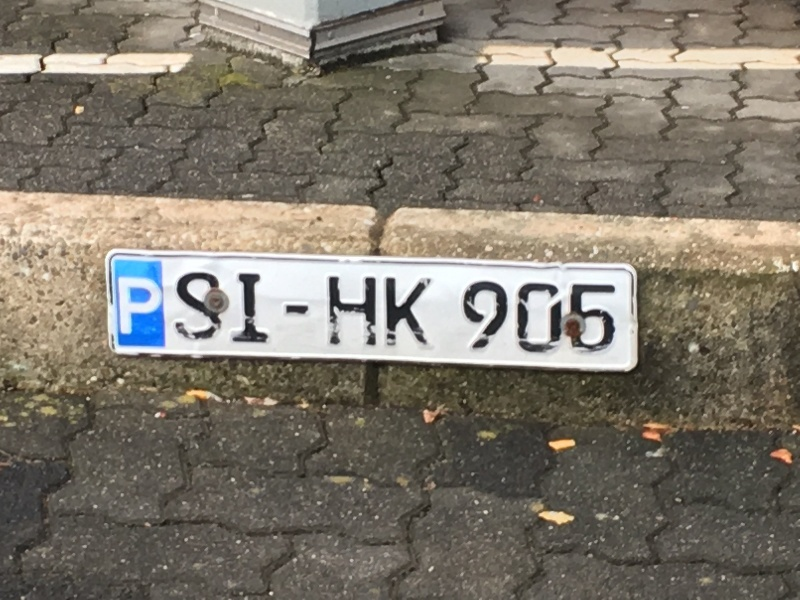text: (465, 279, 480, 358), (481, 279, 496, 358), (497, 279, 512, 358), (513, 279, 528, 358), (529, 279, 544, 358), (545, 279, 560, 358), (561, 279, 576, 358), (577, 279, 592, 358), (593, 279, 608, 358), (177, 272, 192, 347), (193, 272, 208, 347), (209, 272, 224, 347), (225, 272, 240, 347), (241, 272, 256, 347), (257, 272, 272, 347), (337, 275, 352, 349), (353, 275, 368, 349), (369, 275, 384, 349), (385, 275, 400, 349), (401, 275, 416, 349), (417, 275, 432, 349), (129, 277, 144, 339), (145, 277, 160, 339), (116, 277, 128, 339), (326, 275, 336, 349), (609, 279, 618, 358), (460, 279, 464, 358), (289, 305, 304, 317), (174, 272, 176, 347), (161, 277, 163, 339), (283, 305, 288, 317), (305, 305, 310, 317)
